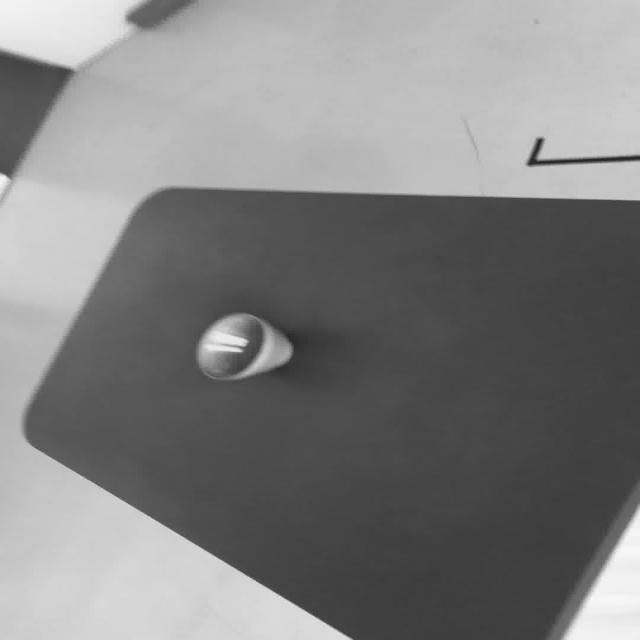bowl: (20, 184, 638, 638), (194, 311, 293, 381)
